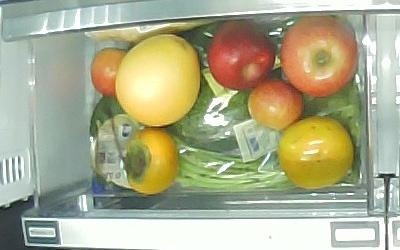apple: (280, 16, 358, 97), (208, 21, 276, 90)
grapefruit: (115, 34, 201, 127)
persimmon: (279, 116, 353, 189), (124, 127, 178, 195)
prune: (247, 79, 304, 130), (91, 48, 129, 97)
